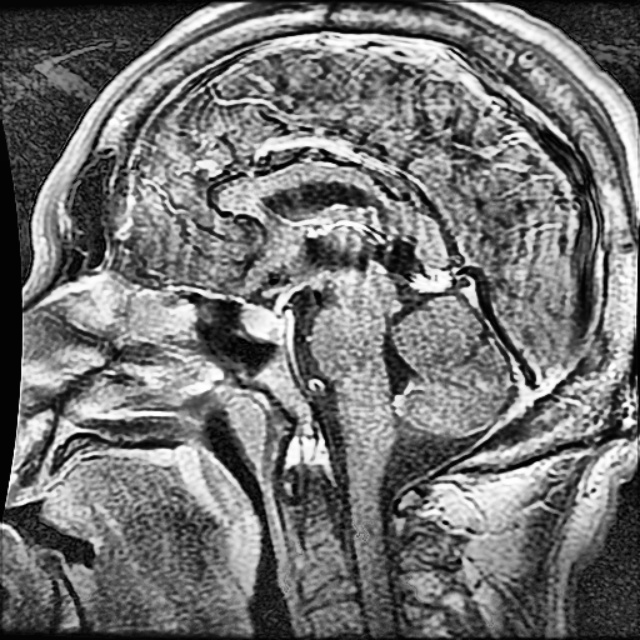Pituitary: (244, 308, 283, 337)
